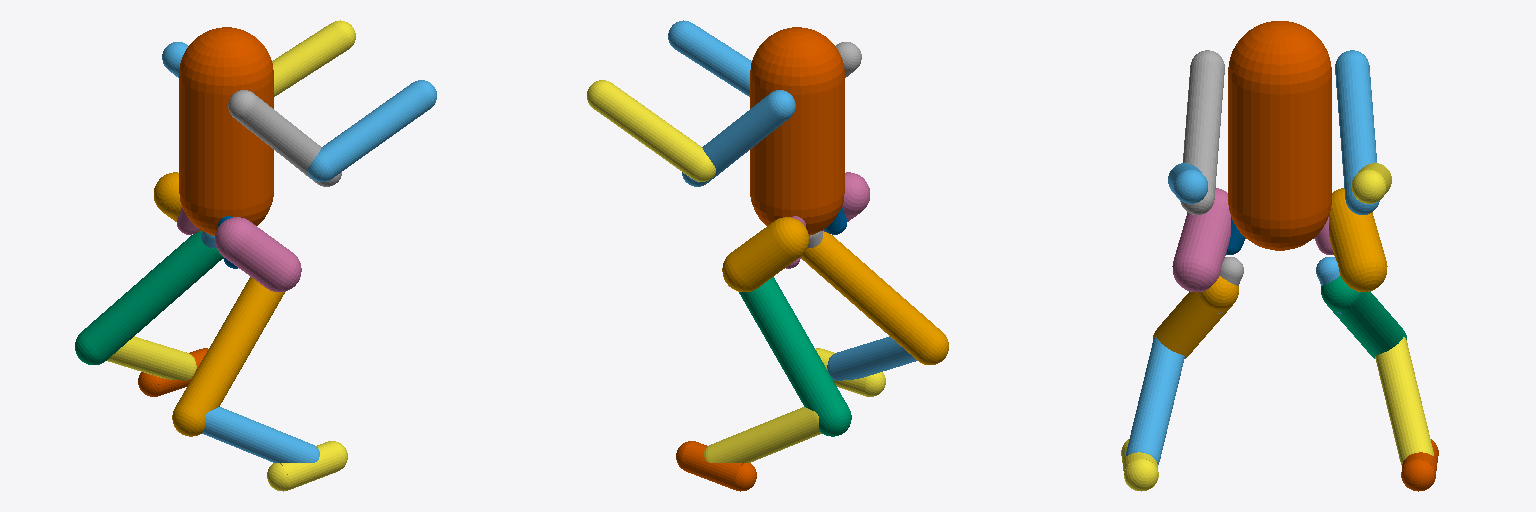
--- Render facts (derived) ---
The picture shows the robot from 3 angles, left to right: view 1: azimuth 30°, elevation 25°; view 2: azimuth 150°, elevation 25°; view 3: azimuth 270°, elevation 25°; orthographic projection.
Robot: digit — 34 links, 33 joints (22 revolute, 11 fixed); root link base_link; default pose: all joints at 0.
Visible links, largest first — view 1: torso, left_shin, right_shin, right_elbow, right_hip_pitch, right_tarsus, right_shoulder_pitch, left_elbow, left_tarsus, right_toe_roll, left_hip_pitch, left_toe_roll (+1 smaller); view 2: torso, right_shin, left_shin, left_elbow, left_hip_pitch, left_tarsus, left_shoulder_pitch, right_elbow, right_tarsus, left_toe_roll, right_hip_pitch, right_toe_roll (+1 smaller); view 3: torso, left_shoulder_pitch, right_shoulder_pitch, left_hip_pitch, right_hip_pitch, left_tarsus, right_tarsus, left_shin, right_shin, left_elbow, right_elbow, left_toe_roll (+1 smaller).
Link boxes in pixels (box(x1,y1,x2,y2)): torso: box(179, 27, 273, 235); left_shin: box(75, 231, 222, 364); right_shin: box(172, 277, 284, 436); right_elbow: box(308, 80, 436, 181); right_hip_pitch: box(215, 217, 301, 291); right_tarsus: box(202, 407, 319, 462); right_shoulder_pitch: box(228, 90, 341, 186); left_elbow: box(272, 20, 355, 96); left_tarsus: box(107, 336, 196, 380); right_toe_roll: box(267, 441, 347, 491); left_hip_pitch: box(154, 172, 201, 231); left_toe_roll: box(138, 348, 208, 396); torso: box(750, 27, 844, 235); right_shin: box(801, 231, 948, 364); left_shin: box(739, 277, 851, 436); left_elbow: box(587, 80, 715, 181); left_hip_pitch: box(722, 217, 808, 291); left_tarsus: box(704, 407, 821, 462); left_shoulder_pitch: box(682, 90, 795, 186); right_elbow: box(668, 20, 751, 96); right_tarsus: box(827, 336, 916, 380); left_toe_roll: box(676, 441, 756, 491); right_hip_pitch: box(822, 172, 869, 231); right_toe_roll: box(815, 348, 885, 396); torso: box(1228, 21, 1331, 250); left_shoulder_pitch: box(1335, 50, 1379, 214); right_shoulder_pitch: box(1180, 50, 1224, 214); left_hip_pitch: box(1329, 188, 1387, 291); right_hip_pitch: box(1172, 188, 1230, 291); left_tarsus: box(1375, 337, 1433, 464); right_tarsus: box(1126, 337, 1184, 464); left_shin: box(1321, 276, 1406, 358); right_shin: box(1153, 276, 1238, 358); left_elbow: box(1352, 163, 1391, 203); right_elbow: box(1168, 163, 1207, 203); left_toe_roll: box(1401, 439, 1438, 491).
Bounding box of the posed robot: 0.9759 × 0.9134 × 1.42 m (x, y, z).
Geometry: primitives only (box / cylinder / sphere), no mesh files.

URDF robot description (digit):
<?xml version="1.0" encoding="utf-8"?>
<robot name="digit">
  <link name="base_link" />

  <!-- release this joint for floating base display. -->
  <joint name="base_link_to_torso" type="fixed">
    <parent link="base_link"/>
    <child link="torso"/>
  </joint>

  <link name="left_hand"/>
  <link name="right_hand"/>
  <link name="left_foot_bottom"/>
  <link name="right_foot_bottom"/>

  <link name="torso">
    <inertial>
      <origin rpy="0 0 0" xyz="0.001637 0.0002 0.259547"/>
      <mass value="15.028392"/>
      <inertia ixx="0.376284" ixy="-8.8e-05" ixz="0.008378" iyy="0.342655" iyz="6.7e-05" izz="0.100648"/>
    </inertial>
    <visual>
      <origin xyz="0.0 0.0 0.22" rpy="0.0 0.0 0.0"/>
      <geometry>
        <cylinder radius="0.15" length="0.4"/>
      </geometry>
    </visual>
    <visual>
      <origin xyz="0.0 0.0 0.42" rpy="0.0 0.0 0.0"/>
      <geometry>
        <sphere radius="0.15"/>
      </geometry>
    </visual>
    <visual>
      <origin xyz="0.0 0.0 0.02" rpy="0.0 0.0 0.0"/>
      <geometry>
        <sphere radius="0.15"/>
      </geometry>
    </visual>
  </link>
  <link name="left_hip_roll">
    <inertial>
      <origin rpy="0 0 0" xyz="-0.001967 0.000244 0.031435"/>
      <mass value="0.915088"/>
      <inertia ixx="0.001017" ixy="-3e-06" ixz="1.3e-05" iyy="0.001148" iyz="-4e-06" izz="0.000766"/>
    </inertial>
    <visual>
      <origin xyz="-0.06 0.0 0.05" rpy="0.0 1.57079632679 0.0"/>
      <geometry>
        <cylinder radius="0.04" length="0.18"/>
      </geometry>
    </visual>
    <visual>
      <origin xyz="0.03 0.0 0.05" rpy="0.0 1.57079632679 0.0"/>
      <geometry>
        <sphere radius="0.04"/>
      </geometry>
    </visual>
    <visual>
      <origin xyz="-0.15 0.0 0.05" rpy="0.0 1.57079632679 0.0"/>
      <geometry>
        <sphere radius="0.04"/>
      </geometry>
    </visual>
  </link>
  <link name="left_hip_yaw">
    <inertial>
      <origin rpy="0 0 0" xyz="1e-05 -0.001945 0.042033"/>
      <mass value="0.818753"/>
      <inertia ixx="0.001627" ixy="-1e-06" ixz="2e-06" iyy="0.001929" iyz="5.3e-05" izz="0.00077"/>
    </inertial>
    <!-- collision geometry skipped -->
  </link>
  <link name="left_hip_pitch">
    <inertial>
      <origin rpy="0 0 0" xyz="0.060537 0.000521 -0.038857"/>
      <mass value="6.244279"/>
      <inertia ixx="0.011533" ixy="-0.000171" ixz="0.000148" iyy="0.033345" iyz="0.000178" izz="0.033958"/>
    </inertial>
    <visual>
      <origin xyz="0.05 0.0 -0.07" rpy="0.0 1.57079632679 0.0"/>
      <geometry>
        <cylinder radius="0.07" length="0.18"/>
      </geometry>
    </visual>
    <visual>
      <origin xyz="0.14 0.0 -0.07" rpy="0.0 1.57079632679 0.0"/>
      <geometry>
        <sphere radius="0.07"/>
      </geometry>
    </visual>
    <visual>
      <origin xyz="-0.04 0.0 -0.07" rpy="0.0 1.57079632679 0.0"/>
      <geometry>
        <sphere radius="0.07"/>
      </geometry>
    </visual>
  </link>
  <link name="left_knee">
    <inertial>
      <origin rpy="0 0 0" xyz="0.045641 0.042154 0.001657"/>
      <mass value="1.227077"/>
      <inertia ixx="0.002643" ixy="-0.001832" ixz="6.6e-05" iyy="0.005098" iyz="4.5e-05" izz="0.007019"/>
    </inertial>
    <visual>
      <origin xyz="0.03 0.03 0.02" rpy="-0.78539816339 1.57079632679 0.0"/>
      <geometry>
        <cylinder radius="0.04" length="0.1"/>
      </geometry>
    </visual>
    <visual>
      <origin xyz="-0.00535533905932738 -0.00535533905932738 0.02" rpy="-0.78539816339 1.57079632679 0.0"/>
      <geometry>
        <sphere radius="0.04"/>
      </geometry>    
    </visual>
    <visual>
      <origin xyz="0.06535533905932738 0.06535533905932738 0.02" rpy="-0.78539816339 1.57079632679 0.0"/>
      <geometry>
        <sphere radius="0.04"/>
      </geometry>
    </visual>
  </link>
  <link name="left_shin">
    <inertial>
      <origin rpy="0 0 0" xyz="0.174265 0.010265 0.00107"/>
      <mass value="0.895793"/>
      <inertia ixx="0.001128" ixy="0.001098" ixz="0.000196" iyy="0.022492" iyz="-3e-06" izz="0.022793"/>
    </inertial>
    <visual>
      <origin xyz="0.225 0.0 0.01" rpy="0.0 1.57079632679 0.0"/>
      <geometry>
        <cylinder radius="0.06" length="0.5"/>
      </geometry>
    </visual>
    <visual>
      <origin xyz="0.475 0.0 0.01" rpy="0.0 1.57079632679 0.0"/>
      <geometry>
        <sphere radius="0.06"/>
      </geometry>
    </visual>
    <visual>
      <origin xyz="-0.025 0.0 0.01" rpy="0.0 1.57079632679 0.0"/>
      <geometry>
        <sphere radius="0.06"/>
      </geometry>
    </visual>
  </link>
  <link name="left_tarsus">
    <inertial>
      <origin rpy="0 0 0" xyz="0.000932 -0.029183 0.000678"/>
      <mass value="1.322865"/>
      <inertia ixx="0.000932" ixy="0.00061" ixz="0.000102" iyy="0.016409" iyz="9e-06" izz="0.016501"/>
    </inertial>
    <visual>
      <origin xyz="0.2 -0.02 0.0" rpy="0.0 1.57079632679 0.0"/>
      <geometry>
        <cylinder radius="0.05" length="0.4"/>
      </geometry>
    </visual>
    <visual>
      <origin xyz="0.4 -0.02 0.0" rpy="0.0 1.57079632679 0.0"/>
      <geometry>
        <sphere radius="0.05"/>
      </geometry>
    </visual>
    <visual>
      <origin xyz="0.0 -0.02 0.0" rpy="0.0 1.57079632679 0.0"/>
      <geometry>
        <sphere radius="0.05"/>
      </geometry>
    </visual>
  </link>
  <link name="left_toe_pitch">
    <inertial>
      <origin rpy="0 0 0" xyz="-0.000141 2e-06 3e-06"/>
      <mass value="0.043881"/>
      <inertia ixx="5e-06" ixy="0" ixz="0" iyy="8e-06" iyz="0" izz="5e-06"/>
    </inertial>
    <!-- collision geometry skipped -->
  </link>
  <link name="left_toe_roll">
    <inertial>
      <origin rpy="0 0 0" xyz="9e-06 -0.028084 -0.023204"/>
      <mass value="0.531283"/>
      <inertia ixx="0.00187" ixy="0" ixz="0" iyy="0.001616" iyz="0.000566" izz="0.000843"/>
    </inertial>
    <visual>
      <origin xyz="0.0 0.0 0.0" rpy="0.5235987755982988 0.0 0.0"/>
      <geometry>
        <cylinder radius="0.05" length="0.2"/>
      </geometry>
    </visual>
    <visual>
      <origin xyz="0.0 -0.046 0.08" rpy="0 0.0 0.0"/>
      <geometry>
        <sphere radius="0.05"/>
      </geometry>
    </visual>
    <visual>
      <origin xyz="0.0 0.046 -0.08" rpy="0 0.0 0.0"/>
      <geometry>
        <sphere radius="0.05"/>
      </geometry>
    </visual>
  </link>
  <link name="left_shoulder_roll">
    <inertial>
      <origin rpy="0 0 0" xyz="9e-06 -0.003158 0.023405"/>
      <mass value="0.535396"/>
      <inertia ixx="0.000704" ixy="1.4e-05" ixz="1.2e-05" iyy="0.00075" iyz="3.5e-05" izz="0.000298"/>
    </inertial>
    <!-- geometry skipped -->
  </link>
  <link name="left_shoulder_cap">
    <inertial>
      <origin rpy="0 0 0" xyz="9e-06 -0.003158 0.023405"/>
      <mass value="0.535396"/>
      <inertia ixx="0.000704" ixy="1.4e-05" ixz="1.2e-05" iyy="0.00075" iyz="3.5e-05" izz="0.000298"/>
    </inertial>
    <!-- geometry skipped -->
  </link>
  <link name="left_waist_cap">
    <inertial>
      <origin rpy="0 0 0" xyz="9e-06 -0.003158 0.023405"/>
      <mass value="0.535396"/>
      <inertia ixx="0.000704" ixy="1.4e-05" ixz="1.2e-05" iyy="0.00075" iyz="3.5e-05" izz="0.000298"/>
    </inertial>
    <!-- geometry skipped -->
  </link>
  <link name="left_shoulder_pitch">
    <inertial>
      <origin rpy="0 0 0" xyz="-4.2e-05 -0.061882 -0.073788"/>
      <mass value="1.440357"/>
      <inertia ixx="0.006761" ixy="-6e-06" ixz="-3e-06" iyy="0.002087" iyz="-0.002046" izz="0.005778"/>
    </inertial>
    <visual>
      <origin xyz="0.0 -0.2 -0.1" rpy="1.57079632679 0.0 0.0"/>
      <geometry>
        <cylinder radius="0.05" length="0.4"/>
      </geometry>
    </visual>
    <visual>
      <origin xyz="0.0 -0.4 -0.1" rpy="1.57079632679 0.0 0.0"/>
      <geometry>
        <sphere radius="0.05"/>
      </geometry>
    </visual>
    <visual>
      <origin xyz="0.0 0.0 -0.1" rpy="1.57079632679 0.0 0.0"/>
      <geometry>
        <sphere radius="0.05"/>
      </geometry>
    </visual>
  </link>
  <link name="left_shoulder_yaw">
    <inertial>
      <origin rpy="0 0 0" xyz="-3e-05 -0.001937 0.11407"/>
      <mass value="1.065387"/>
      <inertia ixx="0.006967" ixy="1e-06" ixz="-1e-06" iyy="0.007003" iyz="1.5e-05" izz="0.000673"/>
    </inertial>
    <!-- geometry skipped -->
  </link>
  <link name="left_elbow">
    <inertial>
      <origin rpy="0 0 0" xyz="0.107996 -0.000521 -0.017765"/>
      <mass value="0.550582"/>
      <inertia ixx="0.000476" ixy="2.9e-05" ixz="0.001403" iyy="0.009564" iyz="1.5e-05" izz="-9e-06"/>
    </inertial>
    <visual>
      <origin xyz="0.2 0.0 0.0" rpy="0.0 1.57079632679 0.0"/>
      <geometry>
        <cylinder radius="0.05" length="0.4"/>
      </geometry>
    </visual>
    <visual>
      <origin xyz="0.0 0.0 0.0" rpy="0.0 1.57079632679 0.0"/>
      <geometry>
        <sphere radius="0.05"/>
      </geometry>
    </visual>
    <visual>
      <origin xyz="0.4 0.0 0.0" rpy="0.0 1.57079632679 0.0"/>
      <geometry>
        <sphere radius="0.05"/>
      </geometry>
    </visual>
  </link>
  <link name="right_hip_roll">
    <inertial>
      <origin rpy="0 0 0" xyz="-0.001967 -0.000244 0.031435"/>
      <mass value="0.915088"/>
      <inertia ixx="0.001017" ixy="3e-06" ixz="1.3e-05" iyy="0.001148" iyz="4e-06" izz="0.000766"/>
    </inertial>
    <!-- <visual>
      <origin rpy="0 0 0" xyz="0 0 0"/>
      <geometry>
        <mesh filename="package://digit_description/urdf/meshes/hip-yaw-housing.obj" scale="1 -1 1"/>
      </geometry>
    </visual>
    <collision>
      <origin rpy="0 0 0" xyz="0 0 0"/>
      <geometry>
        <mesh filename="package://digit_description/urdf/meshes/hip-yaw-housing.obj" scale="1 -1 1"/>
      </geometry>
    </collision> -->
    <visual>
      <origin xyz="-0.06 0.0 0.05" rpy="0.0 1.57079632679 0.0"/>
      <geometry>
        <cylinder radius="0.04" length="0.18"/>
      </geometry>
    </visual>
    <visual>
      <origin xyz="0.03 0.0 0.05" rpy="0.0 1.57079632679 0.0"/>
      <geometry>
        <sphere radius="0.04"/>
      </geometry>
    </visual>
    <visual>
      <origin xyz="-0.15 0.0 0.05" rpy="0.0 1.57079632679 0.0"/>
      <geometry>
        <sphere radius="0.04"/>
      </geometry>
    </visual>
  </link>
  <link name="right_hip_yaw">
    <inertial>
      <origin rpy="0 0 0" xyz="1e-05 0.001945 0.042033"/>
      <mass value="0.818753"/>
      <inertia ixx="0.001627" ixy="1e-06" ixz="2e-06" iyy="0.001929" iyz="-5.3e-05" izz="0.00077"/>
    </inertial>
    <!-- geometry skipped  -->
  </link>
  <link name="right_hip_pitch">
    <inertial>
      <origin rpy="0 0 0" xyz="0.060537 -0.000521 -0.038857"/>
      <mass value="6.244279"/>
      <inertia ixx="0.011533" ixy="0.000171" ixz="0.000148" iyy="0.033345" iyz="-0.000178" izz="0.033958"/>
    </inertial>
    <visual>
      <origin xyz="0.05 0.0 -0.07" rpy="0.0 1.57079632679 0.0"/>
      <geometry>
        <cylinder radius="0.07" length="0.18"/>
      </geometry>
    </visual>
    <visual>
      <origin xyz="0.14 0.0 -0.07" rpy="0.0 1.57079632679 0.0"/>
      <geometry>
        <sphere radius="0.07"/>
      </geometry>
    </visual>
    <visual>
      <origin xyz="-0.04 0.0 -0.07" rpy="0.0 1.57079632679 0.0"/>
      <geometry>
        <sphere radius="0.07"/>
      </geometry>
    </visual>
  </link>
  <link name="right_knee">
    <inertial>
      <origin rpy="0 0 0" xyz="0.045641 -0.042154 0.001657"/>
      <mass value="1.227077"/>
      <inertia ixx="0.002643" ixy="0.001832" ixz="6.6e-05" iyy="0.005098" iyz="-4.5e-05" izz="0.007019"/>
    </inertial>
    <visual>
      <origin xyz="0.03 -0.03 0.02" rpy="0.78539816339 1.57079632679 0.0"/>
      <geometry>
        <cylinder radius="0.04" length="0.1"/>
      </geometry>
    </visual>
    <visual>
      <origin xyz="-0.00535533905932738 0.00535533905932738 0.02" rpy="-0.78539816339 1.57079632679 0.0"/>
      <geometry>
        <sphere radius="0.04"/>
      </geometry>    
    </visual>
    <visual>
      <origin xyz="0.06535533905932738 -0.06535533905932738 0.02" rpy="-0.78539816339 1.57079632679 0.0"/>
      <geometry>
        <sphere radius="0.04"/>
      </geometry>
    </visual>
  </link>
  <link name="right_shin">
    <inertial>
      <origin rpy="0 0 0" xyz="0.174265 -0.010265 0.00107"/>
      <mass value="0.895793"/>
      <inertia ixx="0.001128" ixy="-0.001098" ixz="0.000196" iyy="0.022492" iyz="3e-06" izz="0.022793"/>
    </inertial>
    <visual>
      <origin xyz="0.225 0.0 0.01" rpy="0.0 1.57079632679 0.0"/>
      <geometry>
        <cylinder radius="0.06" length="0.5"/>
      </geometry>
    </visual>
    <visual>
      <origin xyz="0.475 0.0 0.01" rpy="0.0 1.57079632679 0.0"/>
      <geometry>
        <sphere radius="0.06"/>
      </geometry>
    </visual>
    <visual>
      <origin xyz="-0.025 0.0 0.01" rpy="0.0 1.57079632679 0.0"/>
      <geometry>
        <sphere radius="0.06"/>
      </geometry>
    </visual>
  </link>
  <link name="right_tarsus">
    <inertial>
      <origin rpy="0 0 0" xyz="0.000932 0.029183 0.000678"/>
      <mass value="1.322865"/>
      <inertia ixx="0.000932" ixy="-0.00061" ixz="0.000102" iyy="0.016409" iyz="-9e-06" izz="0.016501"/>
    </inertial>
    <visual>
      <origin xyz="0.2 0.02 0.0" rpy="0.0 1.57079632679 0.0"/>
      <geometry>
        <cylinder radius="0.05" length="0.4"/>
      </geometry>
    </visual>
    <visual>
      <origin xyz="0.4 0.02 0.0" rpy="0.0 1.57079632679 0.0"/>
      <geometry>
        <sphere radius="0.05"/>
      </geometry>
    </visual>
    <visual>
      <origin xyz="0.0 0.02 0.0" rpy="0.0 1.57079632679 0.0"/>
      <geometry>
        <sphere radius="0.05"/>
      </geometry>
    </visual>
  </link>
  <link name="right_toe_pitch">
    <inertial>
      <origin rpy="0 0 0" xyz="-0.000141 -2e-06 3e-06"/>
      <mass value="0.043881"/>
      <inertia ixx="5e-06" ixy="0" ixz="0" iyy="8e-06" iyz="0" izz="5e-06"/>
    </inertial>
   <!-- geometry skipped  -->
  </link>
  <link name="right_toe_roll">
    <inertial>
      <origin rpy="0 0 0" xyz="9e-06 0.028084 -0.023204"/>
      <mass value="0.531283"/>
      <inertia ixx="0.00187" ixy="0" ixz="0" iyy="0.001616" iyz="-0.000566" izz="0.000843"/>
    </inertial>
    <visual>
      <origin xyz="0.0 0.0 0.0" rpy="-0.5235987755982988 0.0 0.0"/>
      <geometry>
        <cylinder radius="0.05" length="0.2"/>
      </geometry>
    </visual>
    <visual>
      <origin xyz="0.0 0.046 0.08" rpy="0 0.0 0.0"/>
      <geometry>
        <sphere radius="0.05"/>
      </geometry>
    </visual>
    <visual>
      <origin xyz="0.0 -0.046 -0.08" rpy="0 0.0 0.0"/>
      <geometry>
        <sphere radius="0.05"/>
      </geometry>
    </visual>
  </link>
  <link name="right_shoulder_roll">
    <inertial>
      <origin rpy="0 0 0" xyz="9e-06 0.003158 0.023405"/>
      <mass value="0.535396"/>
      <inertia ixx="0.000704" ixy="-1.4e-05" ixz="1.2e-05" iyy="0.00075" iyz="-3.5e-05" izz="0.000298"/>
    </inertial>
    <!-- geometry skipped -->
  </link>
  <link name="right_shoulder_cap">
    <inertial>
      <origin rpy="0 0 0" xyz="9e-06 0.003158 0.023405"/>
      <mass value="0.535396"/>
      <inertia ixx="0.000704" ixy="-1.4e-05" ixz="1.2e-05" iyy="0.00075" iyz="-3.5e-05" izz="0.000298"/>
    </inertial>
    <!-- geometry skipped -->
  </link>
  <link name="right_waist_cap">
    <inertial>
      <origin rpy="0 0 0" xyz="9e-06 0.003158 0.023405"/>
      <mass value="0.535396"/>
      <inertia ixx="0.000704" ixy="-1.4e-05" ixz="1.2e-05" iyy="0.00075" iyz="-3.5e-05" izz="0.000298"/>
    </inertial>
    <!-- geometry skipped -->
  </link>
  <link name="right_shoulder_pitch">
    <inertial>
      <origin rpy="0 0 0" xyz="-4.2e-05 0.061882 -0.073788"/>
      <mass value="1.440357"/>
      <inertia ixx="0.006761" ixy="6e-06" ixz="-3e-06" iyy="0.002087" iyz="0.002046" izz="0.005778"/>
    </inertial>
    <visual>
      <origin xyz="0.0 0.2 -0.1" rpy="1.57079632679 0.0 0.0"/>
      <geometry>
        <cylinder radius="0.05" length="0.4"/>
      </geometry>
    </visual>
    <visual>
      <origin xyz="0.0 0.4 -0.1" rpy="1.57079632679 0.0 0.0"/>
      <geometry>
        <sphere radius="0.05"/>
      </geometry>
    </visual>
    <visual>
      <origin xyz="0.0 0.0 -0.1" rpy="1.57079632679 0.0 0.0"/>
      <geometry>
        <sphere radius="0.05"/>
      </geometry>
    </visual>
  </link>
  <link name="right_shoulder_yaw">
    <inertial>
      <origin rpy="0 0 0" xyz="-3e-05 0.001937 0.11407"/>
      <mass value="1.065387"/>
      <inertia ixx="0.006967" ixy="-1e-06" ixz="-1e-06" iyy="0.007003" iyz="-1.5e-05" izz="0.000673"/>
    </inertial>
    <!-- geometry skipped -->
  </link>
  <link name="right_elbow">
    <inertial>
      <origin rpy="0 0 0" xyz="0.107996 0.000521 -0.017765"/>
      <mass value="0.550582"/>
      <inertia ixx="0.000476" ixy="-2.9e-05" ixz="0.001403" iyy="0.009564" iyz="-1.5e-05" izz="-9e-06"/>
    </inertial>
    <visual>
      <origin xyz="0.2 0.0 0.0" rpy="0.0 1.57079632679 0.0"/>
      <geometry>
        <cylinder radius="0.05" length="0.4"/>
      </geometry>
    </visual>
    <visual>
      <origin xyz="0.0 0.0 0.0" rpy="0.0 1.57079632679 0.0"/>
      <geometry>
        <sphere radius="0.05"/>
      </geometry>
    </visual>
    <visual>
      <origin xyz="0.4 0.0 0.0" rpy="0.0 1.57079632679 0.0"/>
      <geometry>
        <sphere radius="0.05"/>
      </geometry>
    </visual>
  </link>
  <joint name="hip_abduction_left" type="revolute">
    <origin rpy="1.57079632679 -1.1955506 -1.57079632679" xyz="-0.001 0.091 0"/>
    <axis xyz="0 0 1"/>
    <parent link="torso"/>
    <child link="left_hip_roll"/>
    <limit effort="1.4" lower="-1.0472" upper="1.0472" velocity="12.15"/>
  </joint>
  <joint name="hip_rotation_left" type="revolute">
    <origin rpy="0 -1.57079632679 0" xyz="-0.0505 0 0.044"/>
    <axis xyz="0 0 1"/>
    <parent link="left_hip_roll"/>
    <child link="left_hip_yaw"/>
    <limit effort="1.4" lower="-0.698132" upper="0.698132" velocity="12.15"/>
  </joint>
  <joint name="hip_flexion_left" type="revolute">
    <origin rpy="-1.57079632679 -0.785398163397 3.14159265359" xyz="0 0.004 0.068"/>
    <axis xyz="0 0 -1"/>
    <parent link="left_hip_yaw"/>
    <child link="left_hip_pitch"/>
    <limit effort="12.5" lower="-1.0472" upper="1.57079632679" velocity="8.5"/>
  </joint>
  <joint name="knee_joint_left" type="revolute">
    <origin rpy="0 0 -1.57079632679" xyz="0.12 0 0.0045"/>
    <axis xyz="0 0 1"/>
    <parent link="left_hip_pitch"/>
    <child link="left_knee"/>
    <limit effort="12.5" lower="-1.2392" upper="0.8727" velocity="8.5085"/>
  </joint>
  <joint name="knee_to_shin_left" type="fixed">
    <origin rpy="0 0 0" xyz="0.060677 0.047406 0"/>
    <axis xyz="0 0 1"/>
    <parent link="left_knee"/>
    <child link="left_shin"/>
    <limit effort="0" lower="-0.35" upper="0.35" velocity="10"/>
  </joint>
  <joint name="shin_to_tarsus_left" type="revolute">
    <origin rpy="0 0 1.7976891" xyz="0.434759 0.02 0"/>
    <axis xyz="0 0 1"/>
    <parent link="left_shin"/>
    <child link="left_tarsus"/>
    <limit effort="0" lower="-0.8779" upper="1.2497" velocity="20"/>
  </joint>
  <joint name="toe_pitch_joint_left" type="revolute">
    <origin rpy="0 0 1.1956" xyz="0.408 -0.04 0"/>
    <axis xyz="0 0 1"/>
    <parent link="left_tarsus"/>
    <child link="left_toe_pitch"/>
    <limit effort="0.9" lower="-0.785398163397" upper="0.785398163397" velocity="11.5"/>
  </joint>
  <joint name="toe_roll_joint_left" type="revolute">
    <origin rpy="0 1.57079632679 0" xyz="0 0 0"/>
    <axis xyz="0 0 1"/>
    <parent link="left_toe_pitch"/>
    <child link="left_toe_roll"/>
    <limit effort="0.9" lower="-0.6109" upper="0.6109" velocity="11.5"/>
  </joint>
  <joint name="foot_bottom_joint_left" type="fixed">
    <origin rpy="0 -1.0472 -1.57079632679" xyz="0.005 -0.05 -0.032"/>
    <axis xyz="0 0 1"/>
    <parent link="left_toe_roll"/>
    <child link="left_foot_bottom"/>
    <limit effort="0.9" lower="-0.6109" upper="0.6109" velocity="11.5"/>
  </joint>
  <joint name="shoulder_roll_joint_left" type="revolute">
    <origin rpy="-1.57079632679 -1.3962633 1.57079632679" xyz="-0.001 0.12 0.4"/>
    <axis xyz="0 0 1"/>
    <parent link="torso"/>
    <child link="left_shoulder_roll"/>
    <limit effort="1.4" lower="-1.309" upper="1.309" velocity="12.5"/>
  </joint>
  <joint name="shoulder_roll_cap_left" type="fixed">
    <origin rpy="-1.57079632679 -1.3962633 1.57079632679" xyz="0.001 0.12 0.4"/>
    <axis xyz="0 0 1"/>
    <parent link="torso"/>
    <child link="left_shoulder_cap"/>
    <limit effort="1.4" lower="-1.309" upper="1.309" velocity="12.5"/>
  </joint>
  <joint name="shoulder_pitch_joint_left" type="revolute">
    <origin rpy="1.57079632679 0.785398163397 -0.2792527" xyz="-0.00317 -0.011055 0.0555"/>
    <axis xyz="0 0 -1"/>
    <parent link="left_shoulder_roll"/>
    <child link="left_shoulder_pitch"/>
    <limit effort="1.4" lower="-2.5307" upper="2.5307" velocity="12.5"/>
  </joint>
  <joint name="shoulder_yaw_joint_left" type="revolute">
    <origin rpy="1.57079632679 0 0" xyz="0 -0.165 -0.1"/>
    <axis xyz="0 0 1"/>
    <parent link="left_shoulder_pitch"/>
    <child link="left_shoulder_yaw"/>
    <limit effort="1.4" lower="-1.7453" upper="1.7453" velocity="10"/>
  </joint>
  <joint name="elbow_joint_left" type="revolute">
    <origin rpy="1.57079632679 -0.3926991 0" xyz="0 -0.0385 0.185"/>
    <axis xyz="0 0 1"/>
    <parent link="left_shoulder_yaw"/>
    <child link="left_elbow"/>
    <limit effort="1.4" lower="-1.3526" upper="1.3526" velocity="12.5"/>
  </joint>
  <joint name="hand_joint_left" type="fixed">
    <origin rpy="0 0 0" xyz="0.38 0 -0.06"/>
    <axis xyz="0 0 1"/>
    <parent link="left_elbow"/>
    <child link="left_hand"/>
    <limit effort="1.4" lower="-1.3526" upper="1.3526" velocity="12.5"/>
  </joint>
  <joint name="hip_abduction_right" type="revolute">
    <origin rpy="-1.57079632679 -1.1955506 1.57079632679" xyz="-0.001 -0.091 0"/>
    <axis xyz="0 0 1"/>
    <parent link="torso"/>
    <child link="right_hip_roll"/>
    <limit effort="1.4" lower="-1.0472" upper="1.0472" velocity="12.15"/>
  </joint>
  <joint name="hip_rotation_right" type="revolute">
    <origin rpy="0 -1.57079632679 0" xyz="-0.0505 0 0.044"/>
    <axis xyz="0 0 1"/>
    <parent link="right_hip_roll"/>
    <child link="right_hip_yaw"/>
    <limit effort="1.4" lower="-0.698132" upper="0.698132" velocity="12.15"/>
  </joint>
  <joint name="hip_flexion_right" type="revolute">
    <origin rpy="1.57079632679 -0.785398163397 -3.14159265359" xyz="0 -0.004 0.068"/>
    <axis xyz="0 0 -1"/>
    <parent link="right_hip_yaw"/>
    <child link="right_hip_pitch"/>
    <limit effort="12.5" lower="-1.57079632679" upper="1.0472" velocity="8.5"/>
  </joint>
  <joint name="knee_joint_right" type="revolute">
    <origin rpy="0 0 1.57079632679" xyz="0.12 0 0.0045"/>
    <axis xyz="0 0 1"/>
    <parent link="right_hip_pitch"/>
    <child link="right_knee"/>
    <limit effort="12.5" lower="-0.8727" upper="1.2392" velocity="8.5085"/>
  </joint>
  <joint name="knee_to_shin_right" type="fixed">
    <origin rpy="0 0 0" xyz="0.060677 -0.047406 0"/>
    <axis xyz="0 0 1"/>
    <parent link="right_knee"/>
    <child link="right_shin"/>
    <limit effort="0" lower="-0.35" upper="0.35" velocity="10"/>
  </joint>
  <joint name="shin_to_tarsus_right" type="revolute">
    <origin rpy="0 0 -1.7976891" xyz="0.434759 -0.02 0"/>
    <axis xyz="0 0 1"/>
    <parent link="right_shin"/>
    <child link="right_tarsus"/>
    <limit effort="0" lower="-1.2497" upper="0.8779" velocity="20"/>
  </joint>
  <joint name="toe_pitch_joint_right" type="revolute">
    <origin rpy="0 0 -1.1956" xyz="0.408 0.04 0"/>
    <axis xyz="0 0 1"/>
    <parent link="right_tarsus"/>
    <child link="right_toe_pitch"/>
    <limit effort="0.9" lower="-0.785398163397" upper="0.785398163397" velocity="11.5"/>
  </joint>
  <joint name="toe_roll_joint_right" type="revolute">
    <origin rpy="0 1.57079632679 0" xyz="0 0 0"/>
    <axis xyz="0 0 1"/>
    <parent link="right_toe_pitch"/>
    <child link="right_toe_roll"/>
    <limit effort="0.9" lower="-0.6109" upper="0.6109" velocity="11.5"/>
  </joint>
  <joint name="foot_bottom_joint_right" type="fixed">
    <origin rpy="0 -1.047 1.57079632679" xyz="-0.005 0.05 -0.033"/>
    <axis xyz="0 0 1"/>
    <parent link="right_toe_roll"/>
    <child link="right_foot_bottom"/>
    <limit effort="0.9" lower="-0.6109" upper="0.6109" velocity="11.5"/>
  </joint>
  <joint name="shoulder_roll_joint_right" type="revolute">
    <origin rpy="1.57079632679 -1.3962633 -1.57079632679" xyz="-0.001 -0.12 0.4"/>
    <axis xyz="0 0 1"/>
    <parent link="torso"/>
    <child link="right_shoulder_roll"/>
    <limit effort="1.4" lower="-1.309" upper="1.309" velocity="12.5"/>
  </joint>
  <joint name="shoulder_cap_joint_right" type="fixed">
    <origin rpy="1.57079632679 -1.3962633 -1.57079632679" xyz="0.001 -0.12 0.4"/>
    <axis xyz="0 0 1"/>
    <parent link="torso"/>
    <child link="right_shoulder_cap"/>
    <limit effort="1.4" lower="-1.309" upper="1.309" velocity="12.5"/>
  </joint>

  <joint name="waist_cap_joint_right" type="fixed">
    <origin rpy="1.57079632679 1.57 -1.57079632679" xyz="-0.001 -0.09 0.0"/>
    <axis xyz="0 0 1"/>
    <parent link="torso"/>
    <child link="left_waist_cap"/>
    <limit effort="1.4" lower="-1.309" upper="1.309" velocity="12.5"/>
  </joint>

  <joint name="waist_cap_joint_left" type="fixed">
    <origin rpy="-1.57079632679 1.57 1.57079632679" xyz="-0.001 0.09 0.0"/>
    <axis xyz="0 0 1"/>
    <parent link="torso"/>
    <child link="right_waist_cap"/>
    <limit effort="1.4" lower="-1.309" upper="1.309" velocity="12.5"/>
  </joint>

  <joint name="shoulder_pitch_joint_right" type="revolute">
    <origin rpy="-1.57079632679 0.785398163397 0.2792527" xyz="-0.00317 0.011055 0.0555"/>
    <axis xyz="0 0 -1"/>
    <parent link="right_shoulder_roll"/>
    <child link="right_shoulder_pitch"/>
    <limit effort="1.4" lower="-2.5307" upper="2.5307" velocity="12.5"/>
  </joint>
  <joint name="shoulder_yaw_joint_right" type="revolute">
    <origin rpy="-1.57079632679 0 0" xyz="0 0.165 -0.1"/>
    <axis xyz="0 0 1"/>
    <parent link="right_shoulder_pitch"/>
    <child link="right_shoulder_yaw"/>
    <limit effort="1.4" lower="-1.7453" upper="1.7453" velocity="10"/>
  </joint>
  <joint name="elbow_joint_right" type="revolute">
    <origin rpy="-1.57079632679 -0.3926991 0" xyz="0 0.0385 0.185"/>
    <axis xyz="0 0 1"/>
    <parent link="right_shoulder_yaw"/>
    <child link="right_elbow"/>
    <limit effort="1.4" lower="-1.3526" upper="1.3526" velocity="12.5"/>
  </joint>
  <joint name="hand_joint_right" type="fixed">
    <origin rpy="0.15 0.15 0" xyz="0.38 0 -0.06"/>
    <axis xyz="0 0 1"/>
    <parent link="right_elbow"/>
    <child link="right_hand"/>
    <limit effort="1.4" lower="-1.3526" upper="1.3526" velocity="12.5"/>
  </joint>

</robot>
